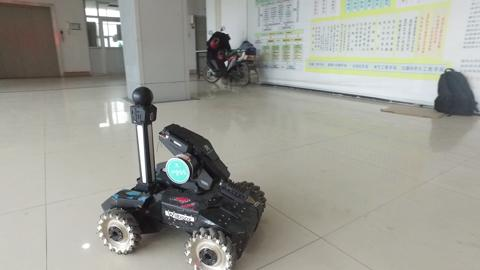bag: (428, 65, 479, 123)
chariot: (85, 80, 274, 270)
